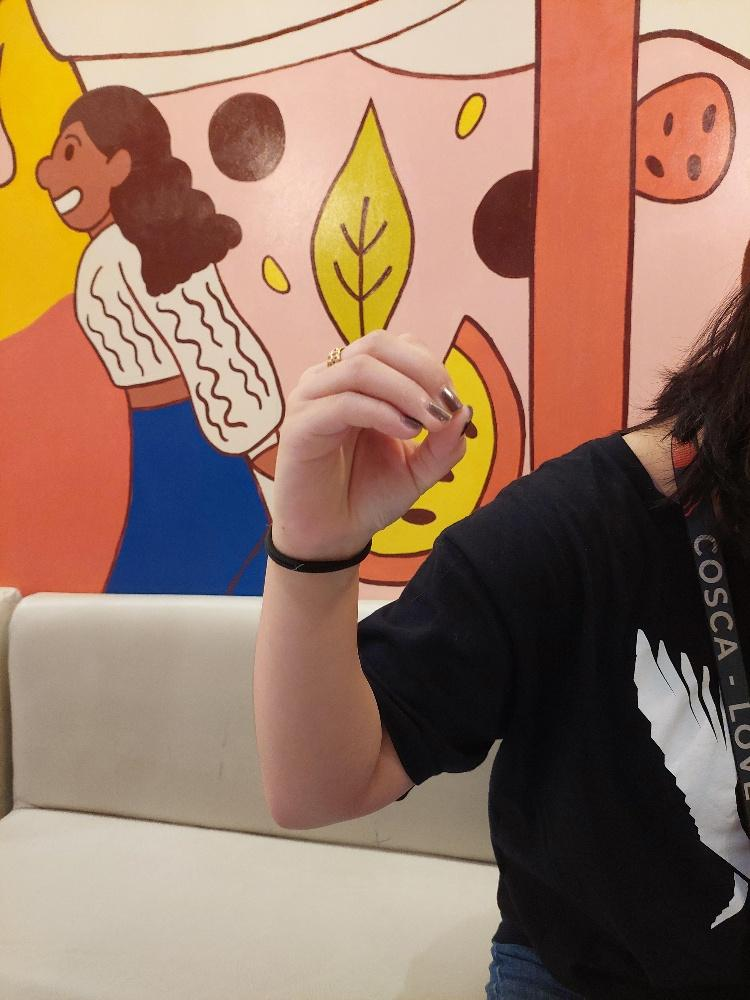o: (268, 323, 474, 551)
